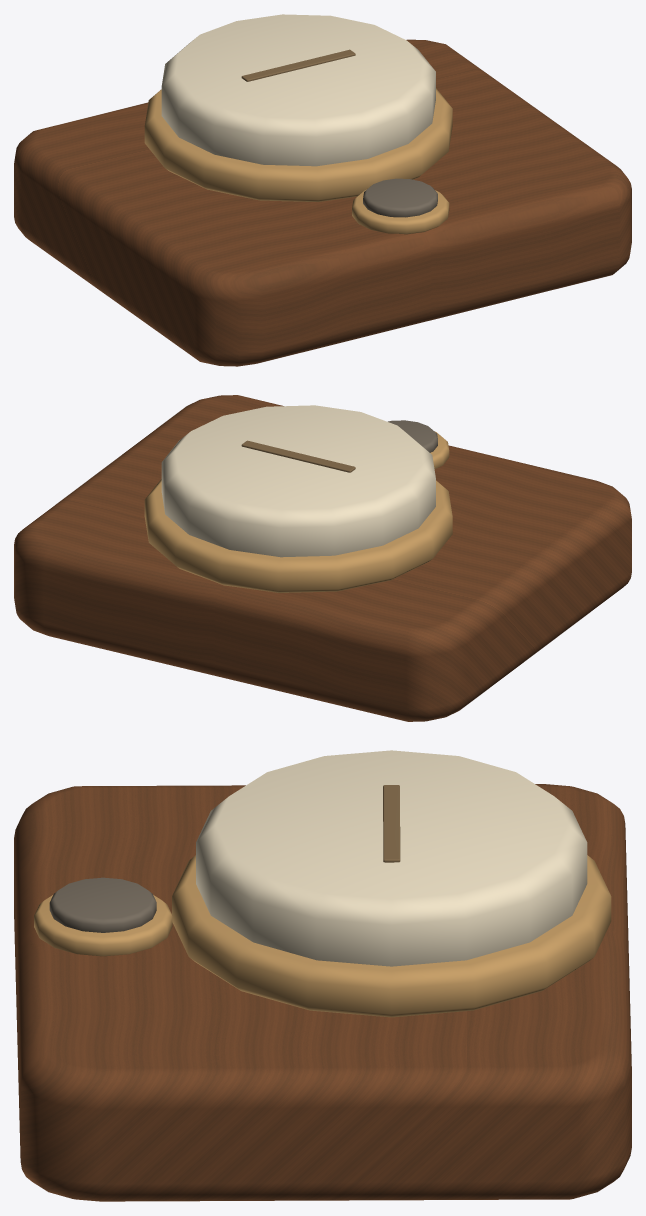
The model's file is wind_control_note1.glb.
The picture shows the model from 3 angles, top to bottom: view 1: azimuth 30°, elevation 25°; view 2: azimuth 150°, elevation 25°; view 3: azimuth 270°, elevation 25°; orthographic projection. The views are drawn at different scales.
Visible parts, largest first — view 1: Oak, Ivory_Cap, Brass, Lens, Engraving_Cap; view 2: Oak, Ivory_Cap, Brass, Engraving_Cap, Lens; view 3: Oak, Ivory_Cap, Brass, Lens, Engraving_Cap.
Part boxes in pixels (x1,y1,x2,y2): Oak: [14, 39, 631, 366]; Ivory_Cap: [161, 14, 435, 166]; Brass: [144, 88, 452, 234]; Lens: [363, 178, 437, 217]; Engraving_Cap: [241, 49, 355, 81]; Oak: [14, 395, 631, 721]; Ivory_Cap: [161, 405, 435, 557]; Brass: [144, 431, 452, 592]; Engraving_Cap: [241, 440, 355, 472]; Lens: [388, 420, 437, 452]; Oak: [14, 784, 631, 1201]; Ivory_Cap: [196, 750, 587, 966]; Brass: [34, 855, 611, 1017]; Lens: [49, 877, 156, 932]; Engraving_Cap: [383, 785, 400, 862].
Size of the model in its own units: 0.106 by 0.0379 by 0.09.
5 materials, 1 textured.
